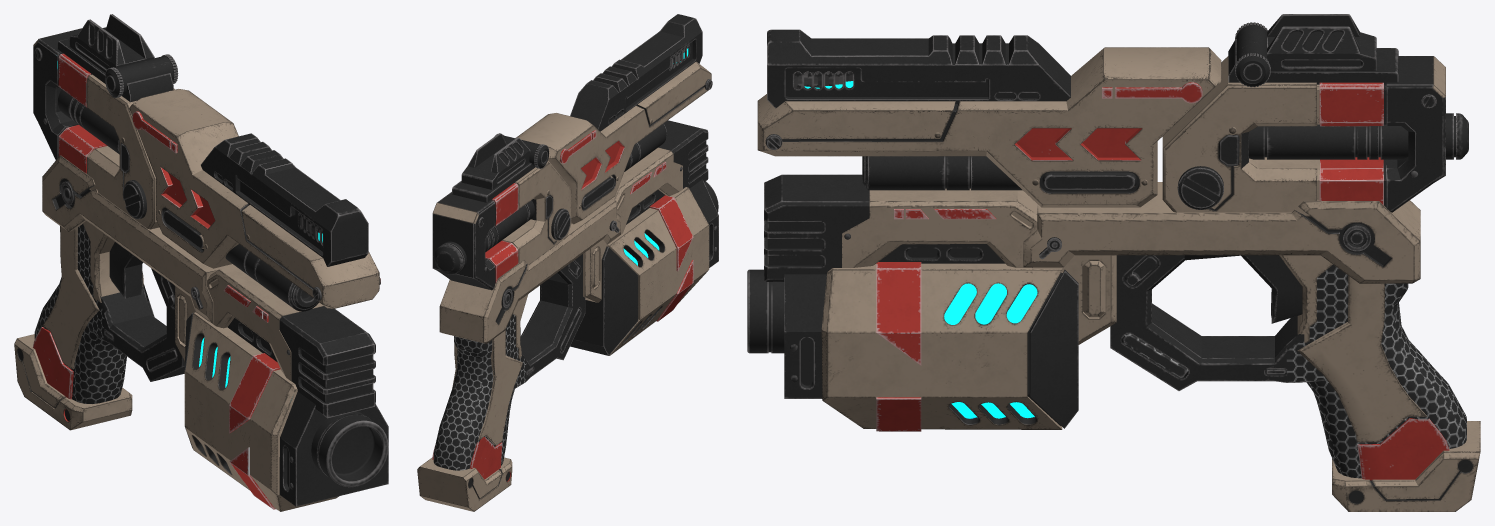
File: Sci-Fi.Gun.fbx
3 views of the same model, side by side, from view 1: azimuth 30°, elevation 25°; view 2: azimuth 150°, elevation 25°; view 3: azimuth 270°, elevation 25° (orthographic). The views are drawn at different scales.
Parts seen in each view (by area): view 1: Cube.005, Cube.001, Cube.013, Cube.007, Cube.006, Cube.003, Cube.010, Cube.015, Cube, Cube.002, Cylinder, Cube.014 (+9 smaller); view 2: Cube.001, Cube.013, Cube.005, Cube.007, Cube.010, Cube.006, Cube.015, Cube.014, Cube.002, Cube.009, Cube.003, Cylinder.003 (+8 smaller); view 3: Cube.001, Cube.005, Cube.007, Cube.013, Cube.010, Cube.006, Cube.015, Cube.002, Cube.003, Cube.014, Cylinder.003, Cube.009 (+10 smaller).
Part boxes in pixels (left/top/right/bottom): Cube.005: left=129, top=89, right=379, bottom=308; Cube.001: left=184, top=312, right=338, bottom=511; Cube.013: left=34, top=224, right=184, bottom=403; Cube.007: left=33, top=28, right=174, bottom=229; Cube.006: left=201, top=133, right=368, bottom=266; Cube.003: left=279, top=306, right=375, bottom=418; Cube.010: left=42, top=155, right=234, bottom=323; Cube.015: left=33, top=226, right=99, bottom=399; Cube: left=279, top=391, right=388, bottom=506; Cube.002: left=207, top=265, right=323, bottom=380; Cylinder: left=311, top=411, right=388, bottom=487; Cube.014: left=14, top=334, right=132, bottom=430; Cube.001: left=570, top=187, right=709, bottom=355; Cube.013: left=433, top=254, right=585, bottom=470; Cube.005: left=515, top=61, right=711, bottom=224; Cube.007: left=432, top=160, right=571, bottom=290; Cube.010: left=439, top=199, right=620, bottom=343; Cube.006: left=570, top=14, right=702, bottom=131; Cube.015: left=432, top=330, right=522, bottom=479; Cube.014: left=417, top=457, right=512, bottom=511; Cube.002: left=611, top=147, right=682, bottom=236; Cube.009: left=461, top=133, right=530, bottom=189; Cube.003: left=658, top=120, right=708, bottom=188; Cylinder.003: left=434, top=200, right=534, bottom=274; Cube.001: left=821, top=262, right=1078, bottom=431; Cube.005: left=757, top=47, right=1221, bottom=207; Cube.007: left=1162, top=56, right=1445, bottom=216; Cube.013: left=1110, top=255, right=1466, bottom=478; Cube.010: left=1023, top=182, right=1420, bottom=283; Cube.006: left=767, top=29, right=1070, bottom=108; Cube.015: left=1297, top=276, right=1449, bottom=480; Cube.002: left=842, top=188, right=1037, bottom=267; Cube.003: left=764, top=174, right=869, bottom=281; Cube.014: left=1332, top=421, right=1480, bottom=511; Cylinder.003: left=1249, top=113, right=1468, bottom=159; Cube.009: left=1267, top=14, right=1376, bottom=70.
Size of the model in its own units: 10.29 by 36.57 by 51.28.
